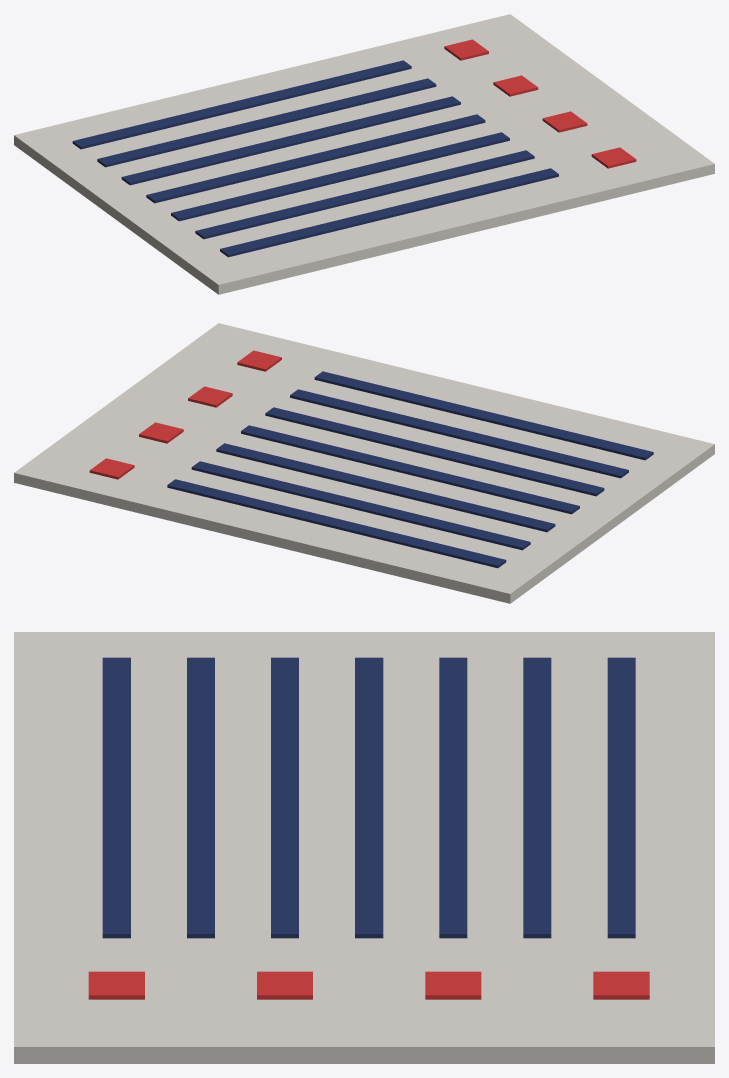
The model's file is address_list.glb.
3 renders of one model, top to bottom at view 1: azimuth 30°, elevation 25°; view 2: azimuth 150°, elevation 25°; view 3: azimuth 270°, elevation 25°, orthographic. The views are drawn at different scales.
Parts seen in each view (by area): view 1: paper_paper, lines_ink, ticks_tick_red; view 2: paper_paper, lines_ink, ticks_tick_red; view 3: paper_paper, lines_ink, ticks_tick_red.
Part boxes in pixels (x1,y1,x2,y2): paper_paper: (14, 14, 714, 294); lines_ink: (72, 60, 558, 257); ticks_tick_red: (444, 39, 636, 168); paper_paper: (14, 323, 714, 603); lines_ink: (167, 371, 653, 568); ticks_tick_red: (89, 350, 281, 479); paper_paper: (14, 632, 714, 1063); lines_ink: (102, 657, 635, 938); ticks_tick_red: (88, 971, 649, 999).
Bounding box in the file's own units: 0.21 × 0.005 × 0.15.
